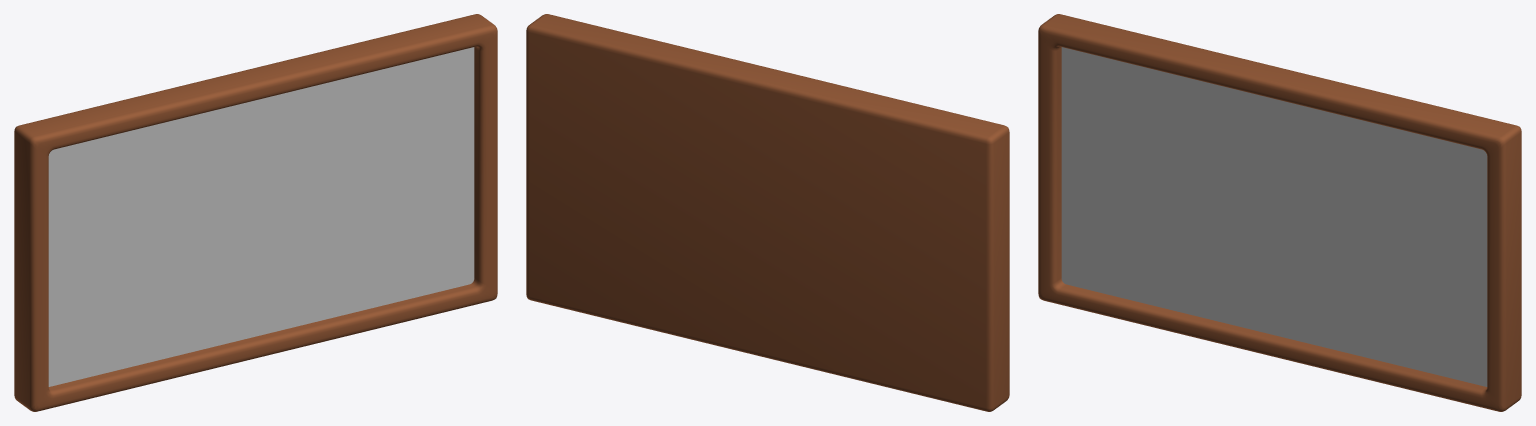
File: family photo.fbx
3 renders of one model, left to right at view 1: azimuth 30°, elevation 25°; view 2: azimuth 150°, elevation 25°; view 3: azimuth 330°, elevation 25°, orthographic.
Visible parts, largest first — view 1: Object001, Box001; view 2: Box001; view 3: Object001, Box001.
Boxes of the visible parts, x1=… form: Object001: x1=48, y1=47, x2=474, y2=386; Box001: x1=14, y1=14, x2=497, y2=411; Box001: x1=526, y1=14, x2=1009, y2=411; Object001: x1=1061, y1=47, x2=1487, y2=386; Box001: x1=1038, y1=14, x2=1521, y2=411.
Size of the model in its own units: 160 by 90 by 12.
